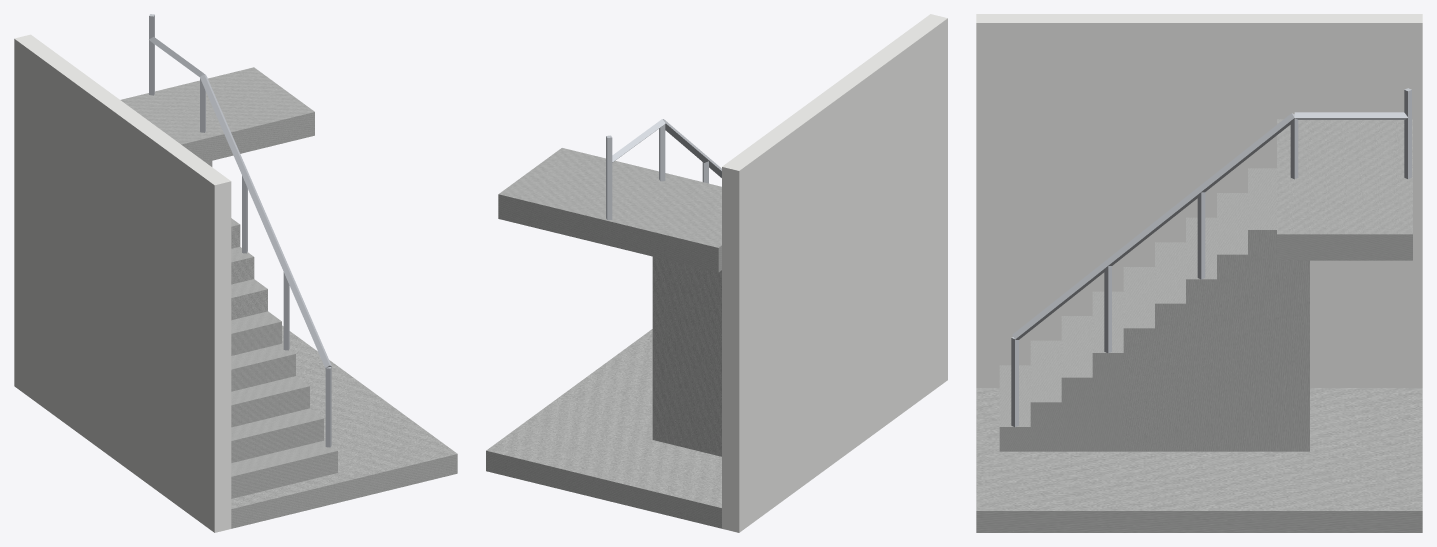
File: velodrome-and-track-cycling-stair-core-fafe2a55__38009.glb
3 views of the same model, side by side, from view 1: azimuth 30°, elevation 25°; view 2: azimuth 150°, elevation 25°; view 3: azimuth 270°, elevation 25° (orthographic). The views are drawn at different scales.
Parts seen in each view (by area): view 1: stair-core-chalk, stair-core-apron, stair-core-steel; view 2: stair-core-chalk, stair-core-apron, stair-core-steel; view 3: stair-core-apron, stair-core-chalk, stair-core-steel.
Part boxes in pixels (left/top/right/bottom): stair-core-chalk: left=14, top=34, right=231, bottom=532; stair-core-apron: left=120, top=67, right=457, bottom=528; stair-core-steel: left=149, top=14, right=331, bottom=447; stair-core-chalk: left=722, top=14, right=947, bottom=532; stair-core-apron: left=486, top=148, right=721, bottom=528; stair-core-steel: left=606, top=119, right=721, bottom=220; stair-core-apron: left=976, top=119, right=1422, bottom=532; stair-core-chalk: left=976, top=14, right=1422, bottom=387; stair-core-steel: left=1011, top=88, right=1411, bottom=427.
Bounding box in the file's own units: 3.22 × 4.4 × 4.6.
Materials: 3 (1 with a texture image).
